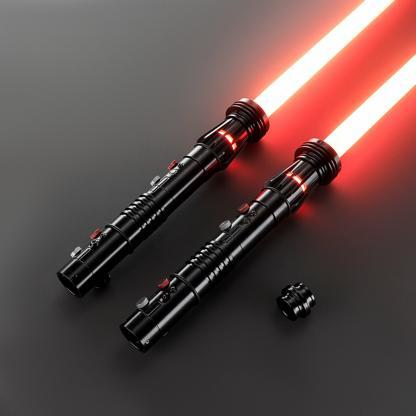sith_lightsaber: (45, 0, 415, 317), (102, 42, 415, 373)
